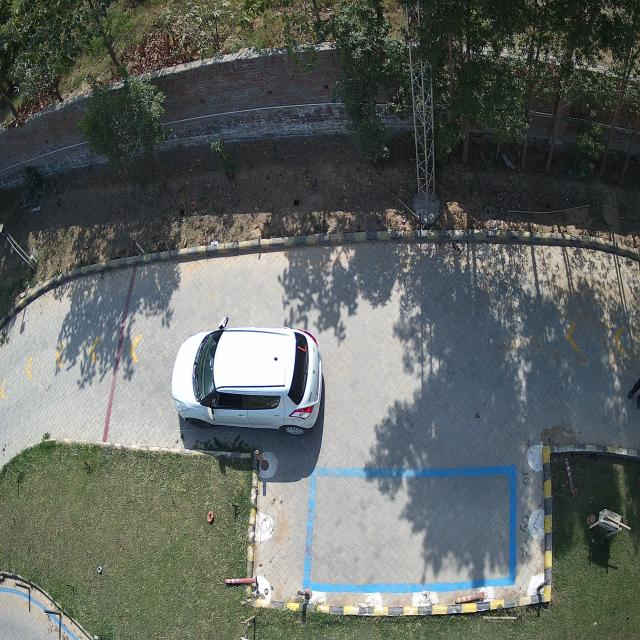car: (171, 327, 324, 435)
